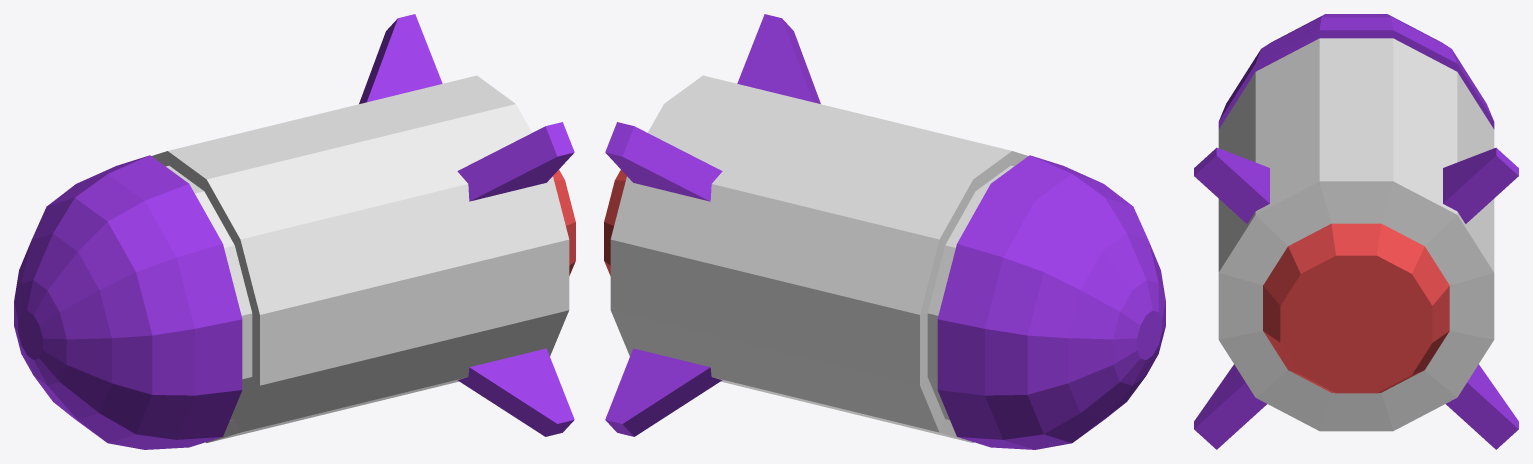
Rendered from bullet.fbx.
The picture shows the model from 3 angles, left to right: view 1: azimuth 30°, elevation 25°; view 2: azimuth 150°, elevation 25°; view 3: azimuth 270°, elevation 25°; orthographic projection. The views are drawn at different scales.
Parts seen in each view (by area): view 1: Cylinder.002; view 2: Cylinder.002; view 3: Cylinder.002.
Boxes of the visible parts, bbox=[...] form: Cylinder.002: bbox=[14, 14, 575, 449]; Cylinder.002: bbox=[604, 14, 1165, 449]; Cylinder.002: bbox=[1194, 14, 1518, 449].
Bounding box in the file's own units: 155 × 91.06 × 91.06.
